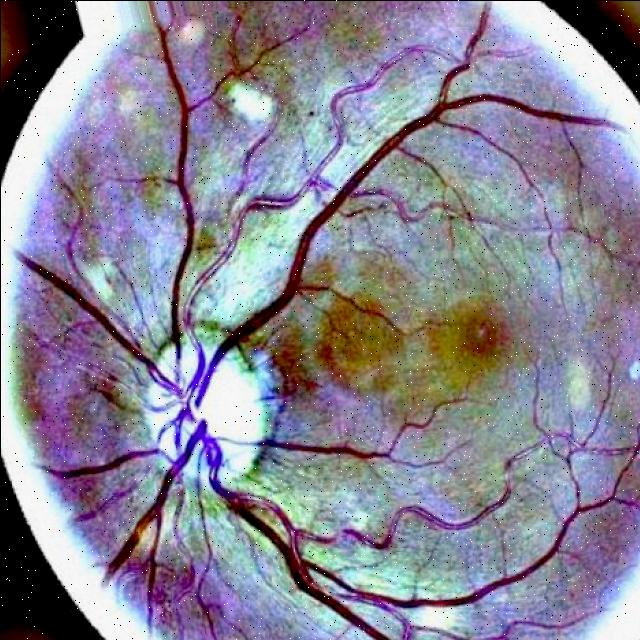Macula: (429, 292, 514, 374)
Nerves: (194, 7, 572, 404), (196, 421, 401, 640), (8, 241, 186, 409), (151, 28, 201, 382), (100, 426, 215, 573), (49, 440, 165, 479), (241, 438, 368, 462)
Optic Disk: (139, 328, 285, 482)
